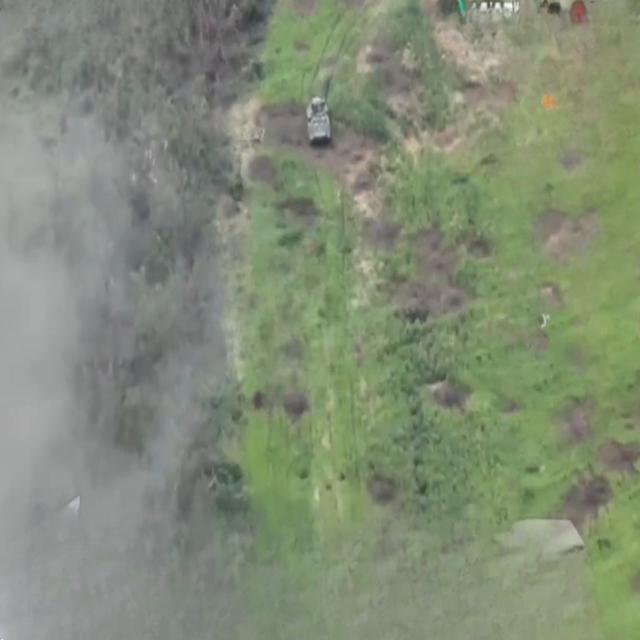APC: (306, 95, 333, 149)
